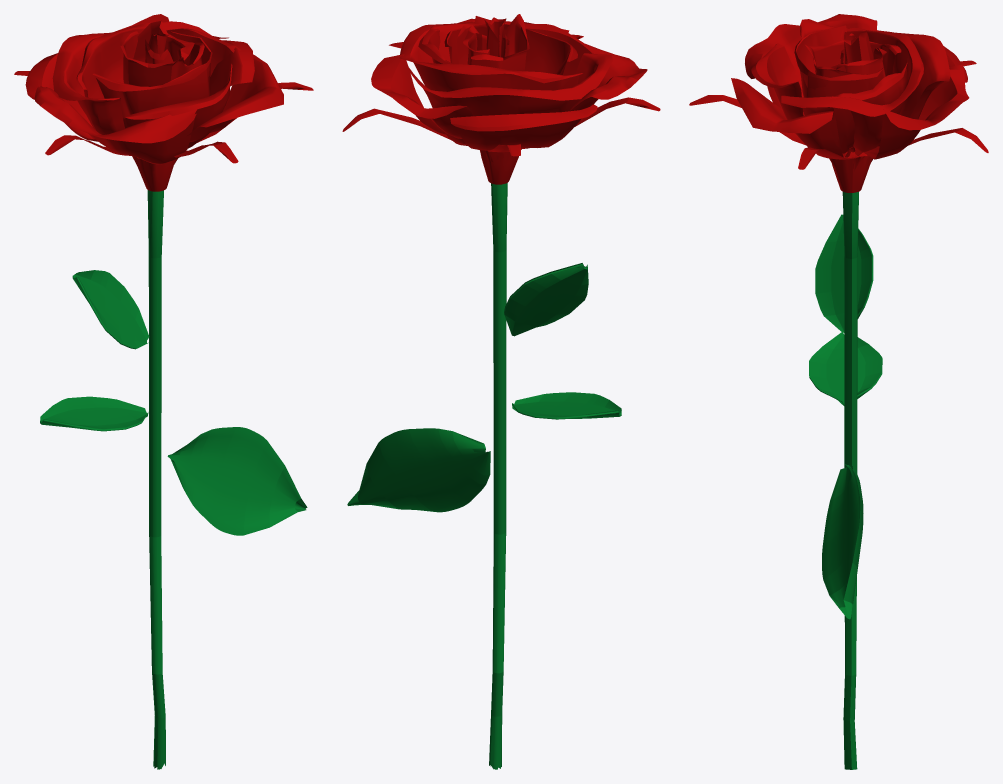
File: rose.fbx
3 views of the same model, side by side, from view 1: azimuth 30°, elevation 25°; view 2: azimuth 150°, elevation 25°; view 3: azimuth 270°, elevation 25° (orthographic).
Visible parts, largest first — view 1: polySurface4, polySurface2; view 2: polySurface4, polySurface2; view 3: polySurface4, polySurface2.
Part boxes in pixels (left/top/right/bottom): polySurface4: left=14, top=14, right=313, bottom=191; polySurface2: left=40, top=190, right=307, bottom=769; polySurface4: left=342, top=14, right=660, bottom=184; polySurface2: left=347, top=183, right=621, bottom=769; polySurface4: left=689, top=14, right=988, bottom=192; polySurface2: left=809, top=192, right=882, bottom=769.
Size of the model in its own units: 3.45 by 8.6 by 3.15.
